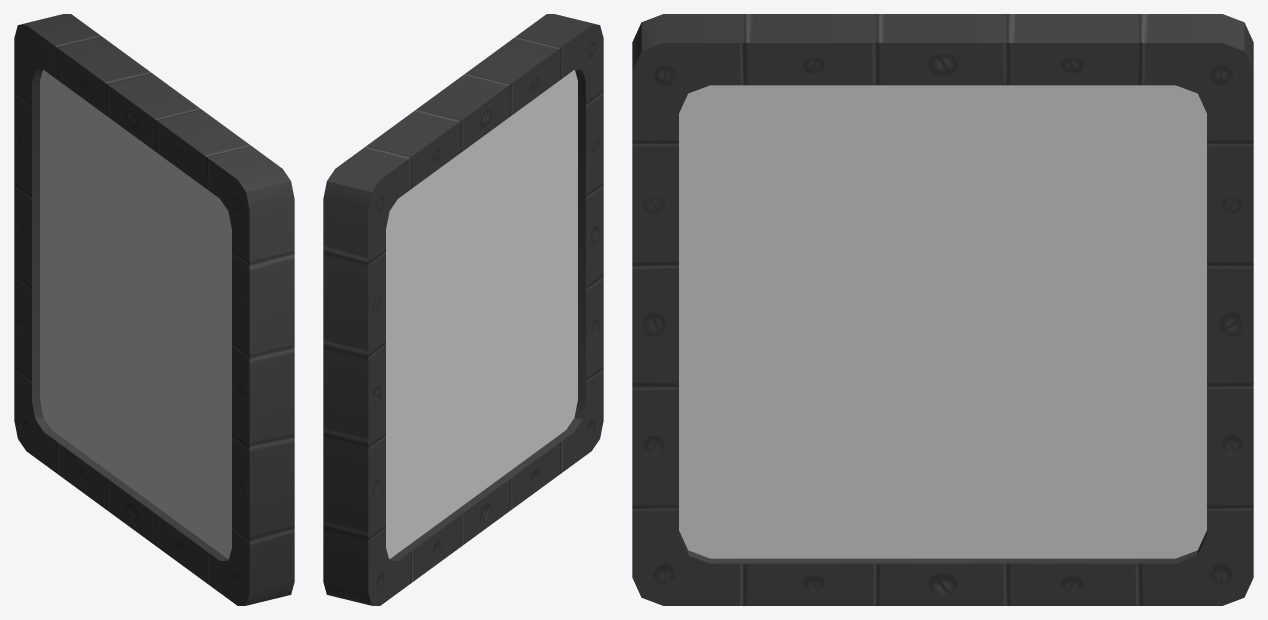
The model's file is Window.fbx.
3 views of the same model, side by side, from view 1: azimuth 30°, elevation 25°; view 2: azimuth 150°, elevation 25°; view 3: azimuth 270°, elevation 25° (orthographic). The views are drawn at different scales.
Parts seen in each view (by area): view 1: Cube.006; view 2: Cube.006; view 3: Cube.006.
Boxes of the visible parts, x1=… form: Cube.006: x1=14, y1=14, x2=294, y2=605; Cube.006: x1=323, y1=14, x2=603, y2=605; Cube.006: x1=632, y1=14, x2=1253, y2=605.
Size of the model in its own units: 52.25 by 472 by 472.
